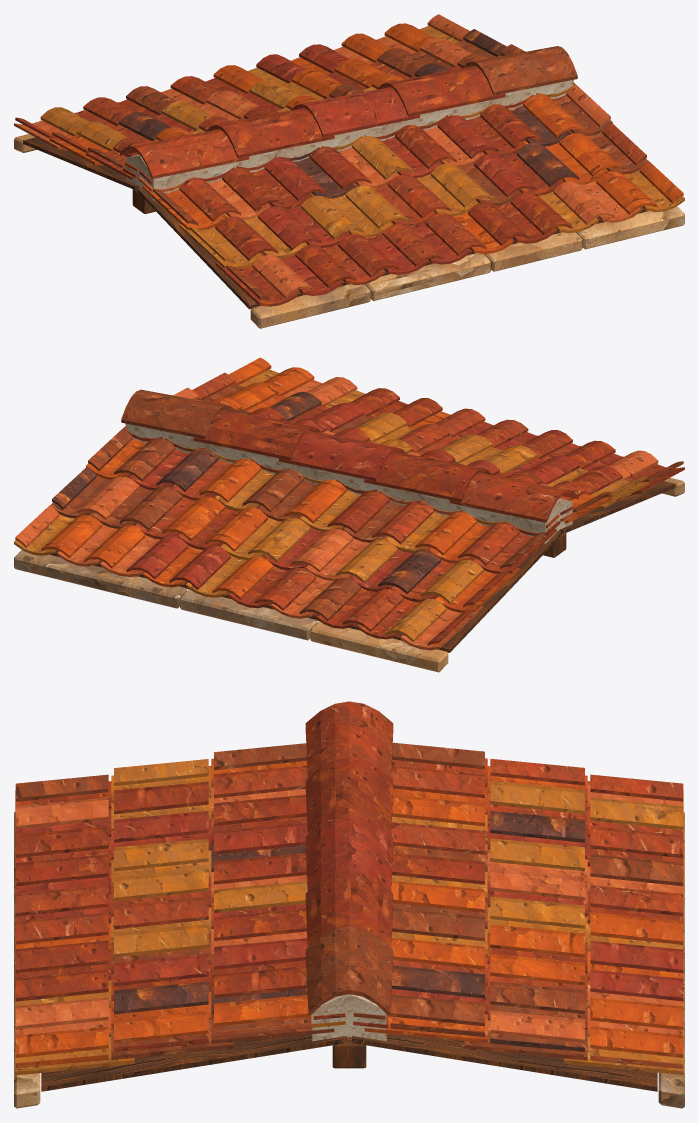
Rendered from roof_26_ridge__clay_brick.glb.
3 renders of one model, top to bottom at view 1: azimuth 30°, elevation 25°; view 2: azimuth 150°, elevation 25°; view 3: azimuth 270°, elevation 25°, orthographic. The views are drawn at different scales.
Visible parts, largest first — view 1: model; view 2: model; view 3: model.
Boxes of the visible parts, left/top/right/bottom form: model: left=14, top=14, right=684, bottom=328; model: left=14, top=357, right=684, bottom=672; model: left=14, top=701, right=684, bottom=1108.
Bounding box in the file's own units: 1.99 × 0.4134 × 1.99.
14 materials, 14 textured.
